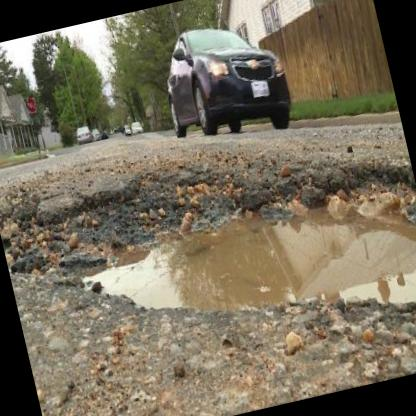pothole: (0, 103, 416, 398)
